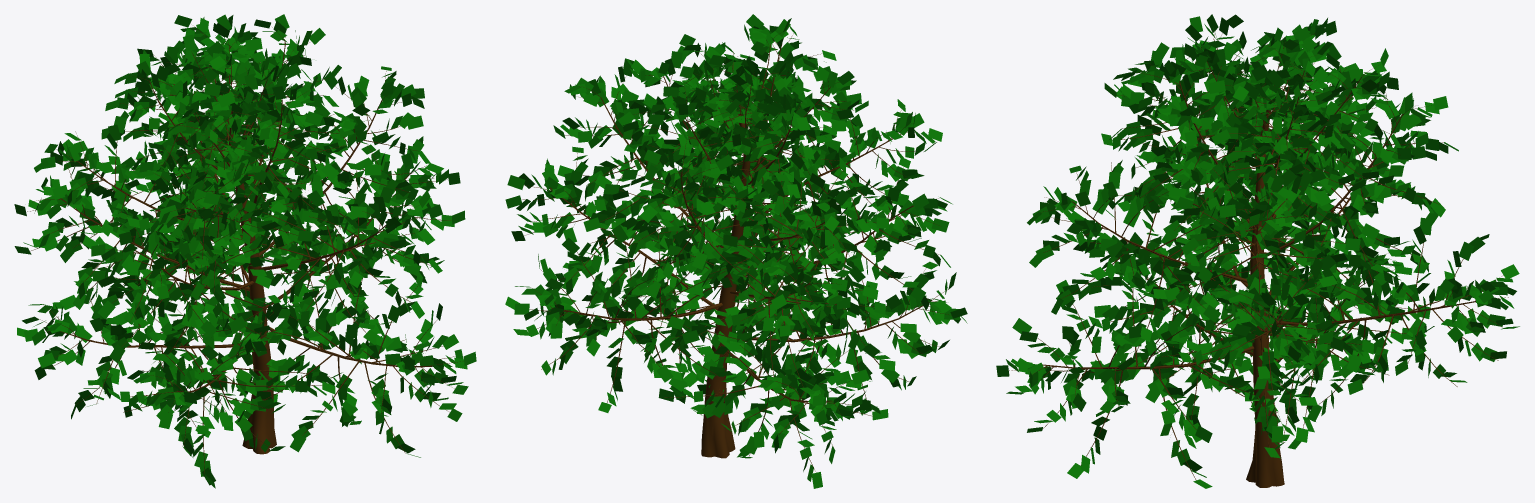
The model's file is Tree.FBX.
The picture shows the model from 3 angles, left to right: view 1: azimuth 30°, elevation 25°; view 2: azimuth 150°, elevation 25°; view 3: azimuth 270°, elevation 25°; orthographic projection. The views are drawn at different scales.
Visible parts, largest first — view 1: Foliage001; view 2: Foliage001; view 3: Foliage001.
Part boxes in pixels (left/top/right/bottom): Foliage001: left=14, top=14, right=476, bottom=488; Foliage001: left=505, top=14, right=967, bottom=488; Foliage001: left=996, top=14, right=1519, bottom=488.
Size of the model in its own units: 143 by 145 by 155.
